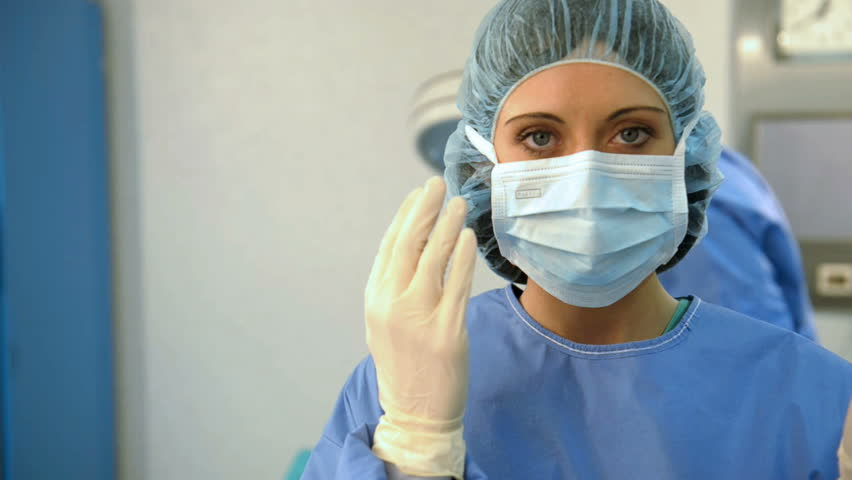mask: (490, 156, 691, 307)
